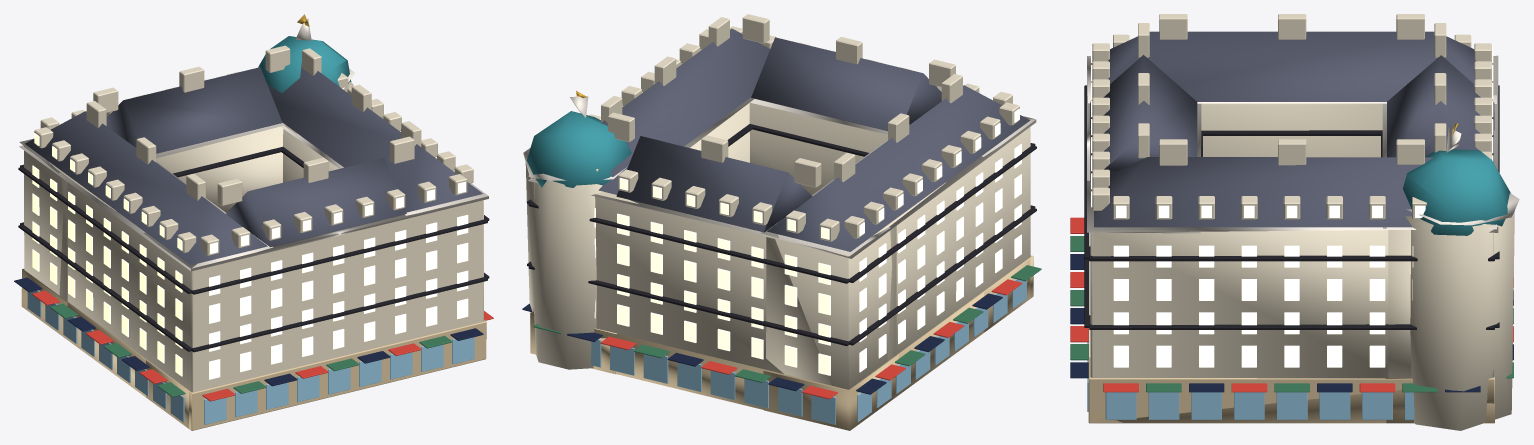
The model's file is city_block.glb.
The picture shows the model from 3 angles, left to right: view 1: azimuth 30°, elevation 25°; view 2: azimuth 150°, elevation 25°; view 3: azimuth 270°, elevation 25°; orthographic projection. The views are drawn at different scales.
Visible parts, largest first — view 1: city_block; view 2: city_block; view 3: city_block.
Part boxes in pixels (bbox=[...]): city_block: bbox=[14, 14, 493, 430]; city_block: bbox=[522, 14, 1041, 430]; city_block: bbox=[1070, 14, 1519, 430].
Bounding box in the file's own units: 37.73 × 26.48 × 37.89.
1 material, 1 textured.
